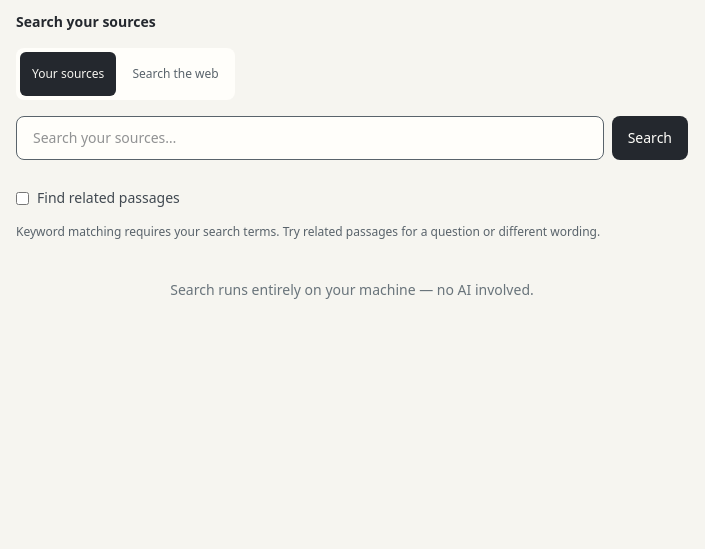
Scenario: groups case/whitespace variants; keeps distinct texts apart
This screenshot has width=705, height=549.
Type "cells" into the search field with placeholder "Search your sources…".
click(310, 138); type("cells")  # box [16,116,604,160]
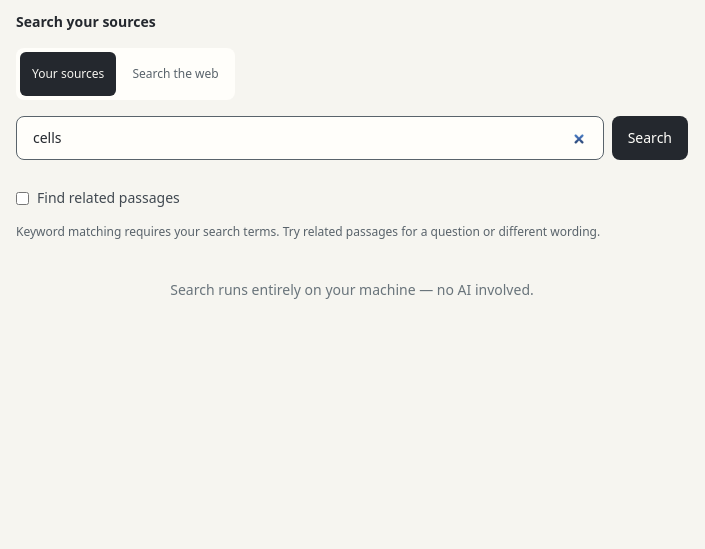
Click the button with aria-label "submit search".
click(650, 138)  # box [612,116,688,160]
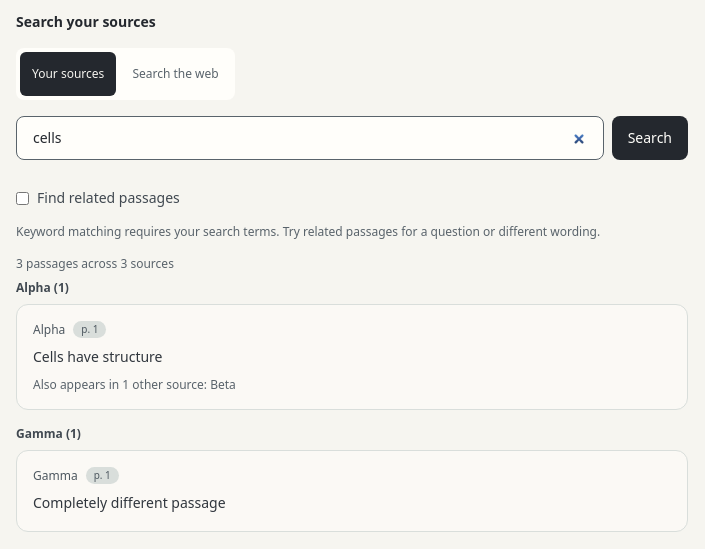
Expected: the text "3 passages across 3 sources" is shown, [16,255,174,272]
Expected: the text "Cells have structure" is shown, [33,347,162,366]
Expected: the text "Also appears in 1 other source: Beta" is shown, [33,376,236,393]
